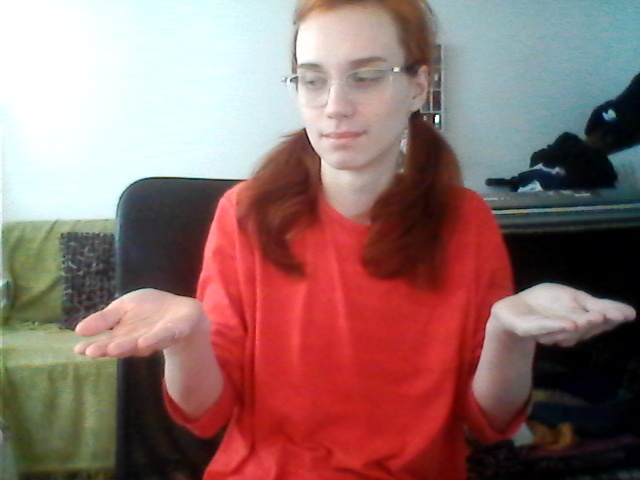alebo: (68, 276, 633, 378)
